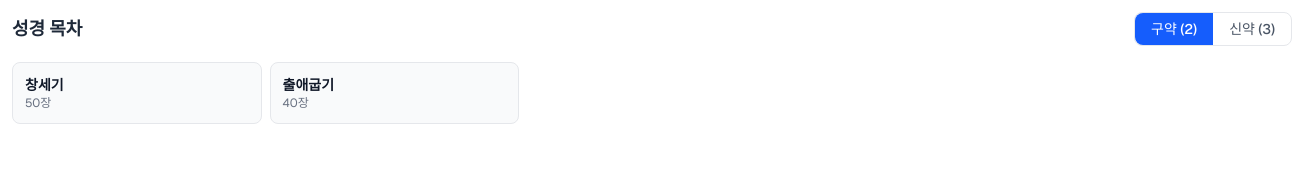
Scenario: BookGrid › switches to NT books when NT tab is clicked
Click the button "신약 (3)" at (1252, 29), box [1213,13,1291,45]
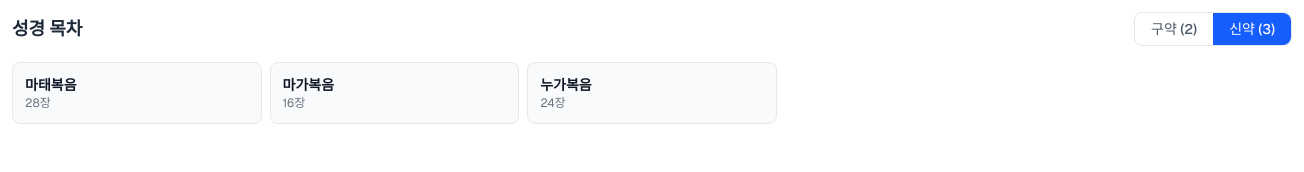
Expected: the text "마태복음" is shown, [25,76,76,94]
Expected: the text "마가복음" is shown, [283,76,334,94]
Expected: the link "창세기" is gone
